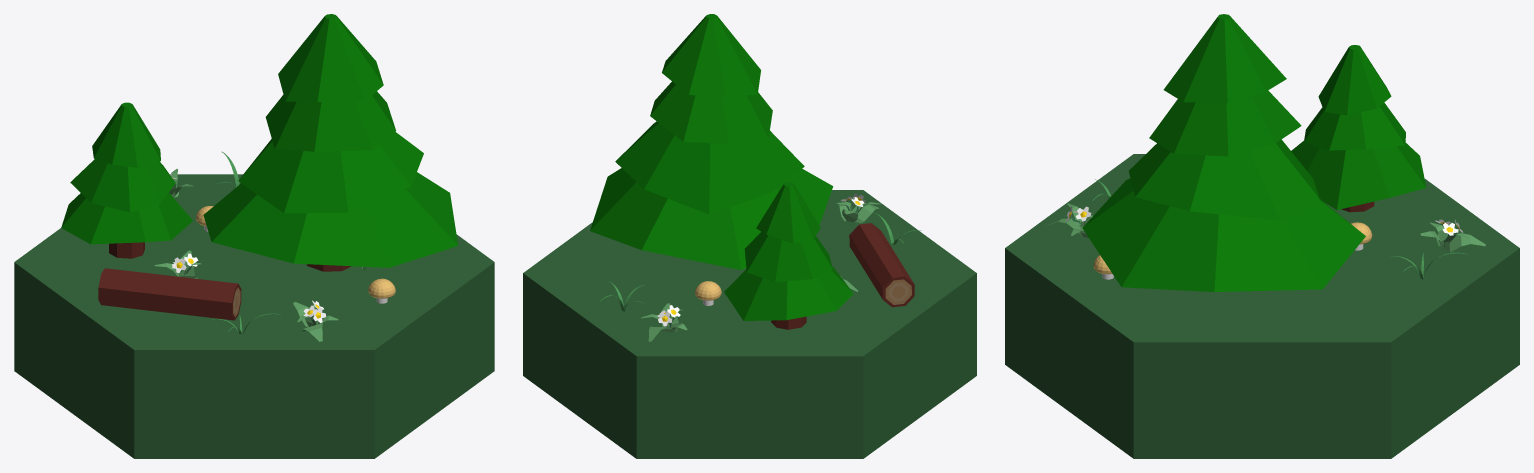
File: HexCell_Forest_2.glb
3 views of the same model, side by side, from view 1: azimuth 30°, elevation 25°; view 2: azimuth 150°, elevation 25°; view 3: azimuth 270°, elevation 25° (orthographic). The views are drawn at different scales.
Parts seen in each view (by area): view 1: HexCell_Base_Forest.001; view 2: HexCell_Base_Forest.001; view 3: HexCell_Base_Forest.001.
Part boxes in pixels (x1,y1,x2,y2): HexCell_Base_Forest.001: (14, 14, 494, 458); HexCell_Base_Forest.001: (523, 14, 976, 458); HexCell_Base_Forest.001: (1005, 14, 1519, 458).
Bounding box in the file's own units: 1.73 × 1.62 × 2.
